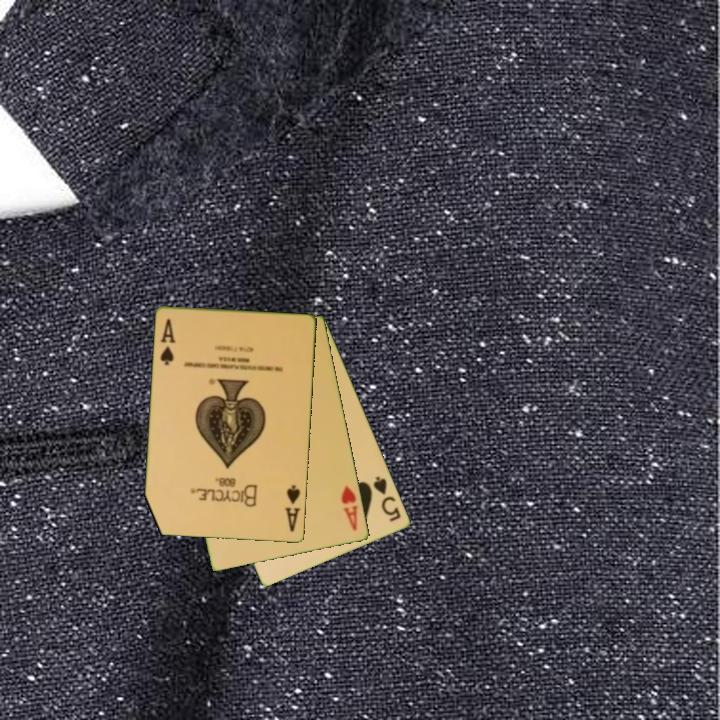5s: (370, 473, 404, 525)
Ah: (338, 482, 361, 534)
As: (282, 482, 303, 535), (157, 315, 178, 368)
